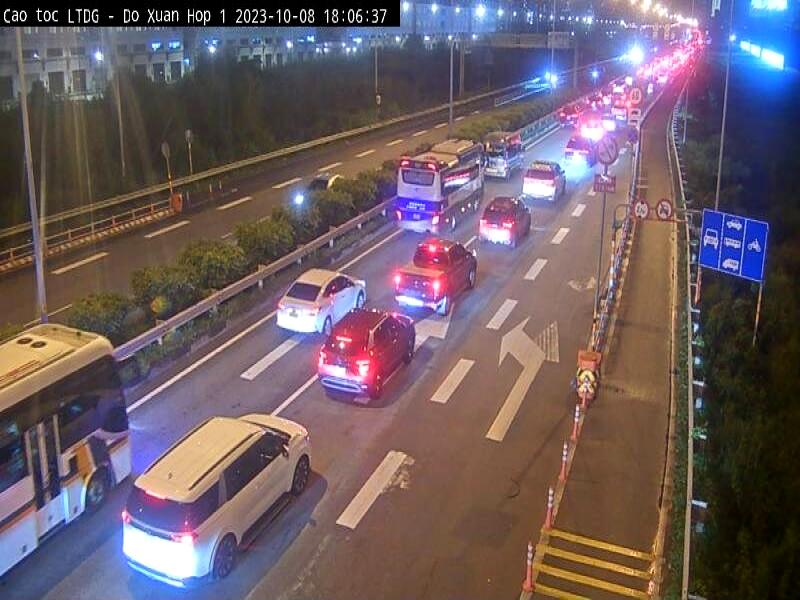bus: (0, 324, 135, 584), (398, 140, 483, 234)
car: (122, 411, 313, 584), (319, 307, 417, 405), (394, 239, 482, 313), (278, 267, 370, 337)
